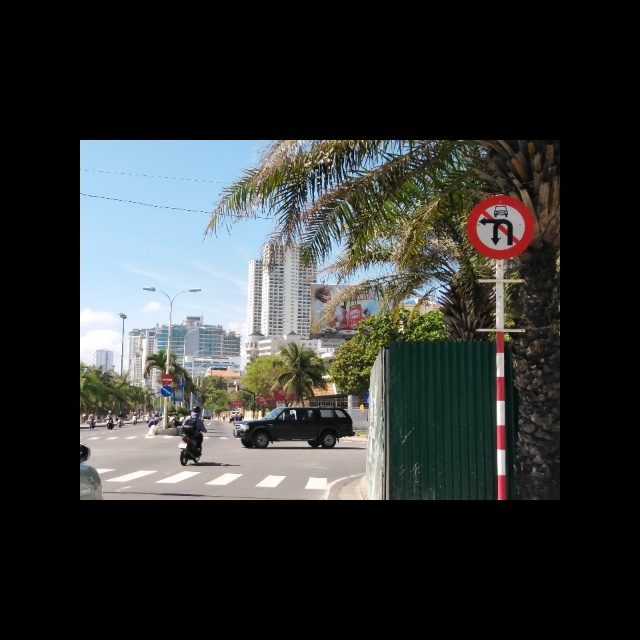Cấm xe ô tô quay đầu và rẽ trái: (466, 194, 533, 262)
